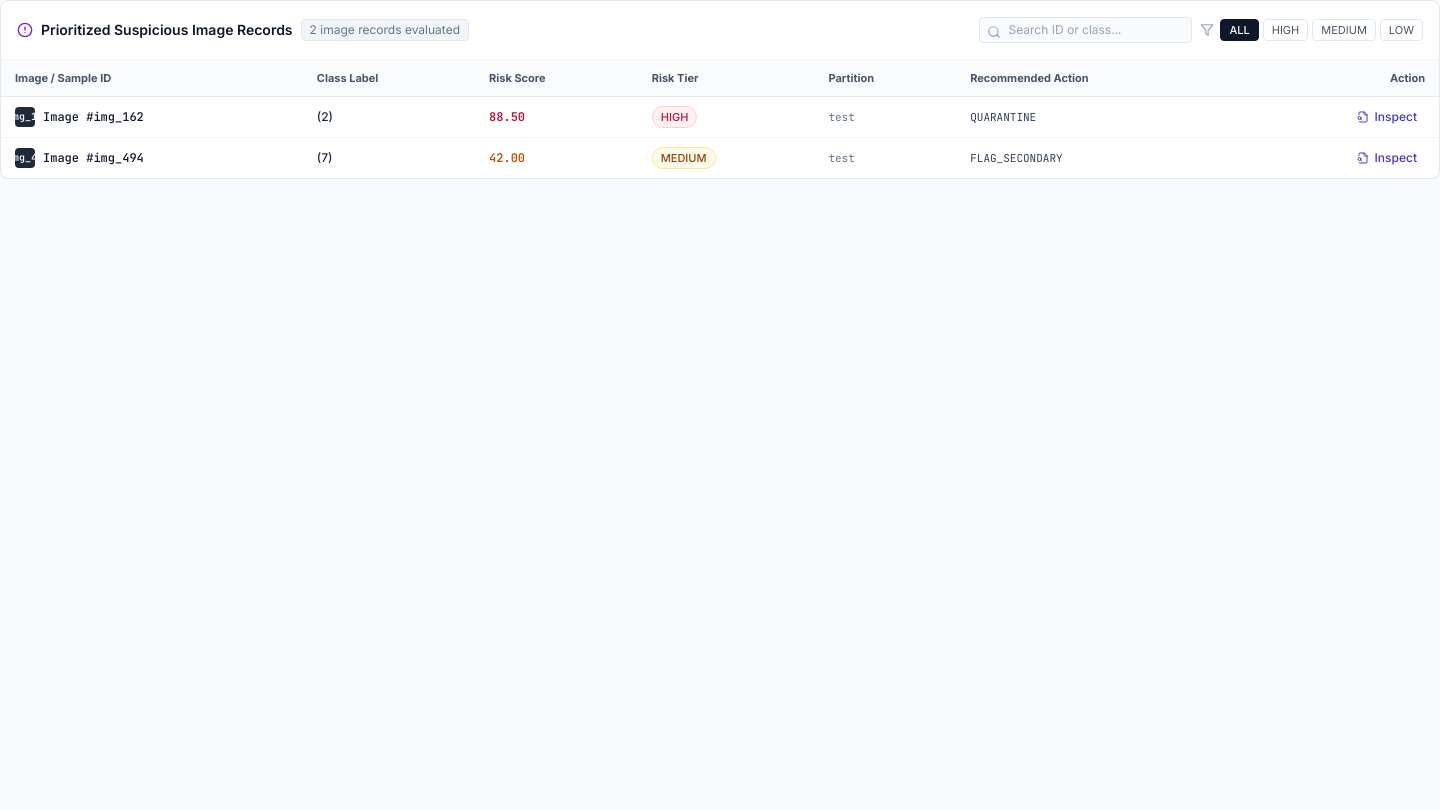
Scenario: SuspiciousImageExplorer Component › opens image sample detail drawer when Inspect is clicked
Click the button "Inspect" in the row of "(2)". click: (1387, 117)
box: [1349,105,1425,129]
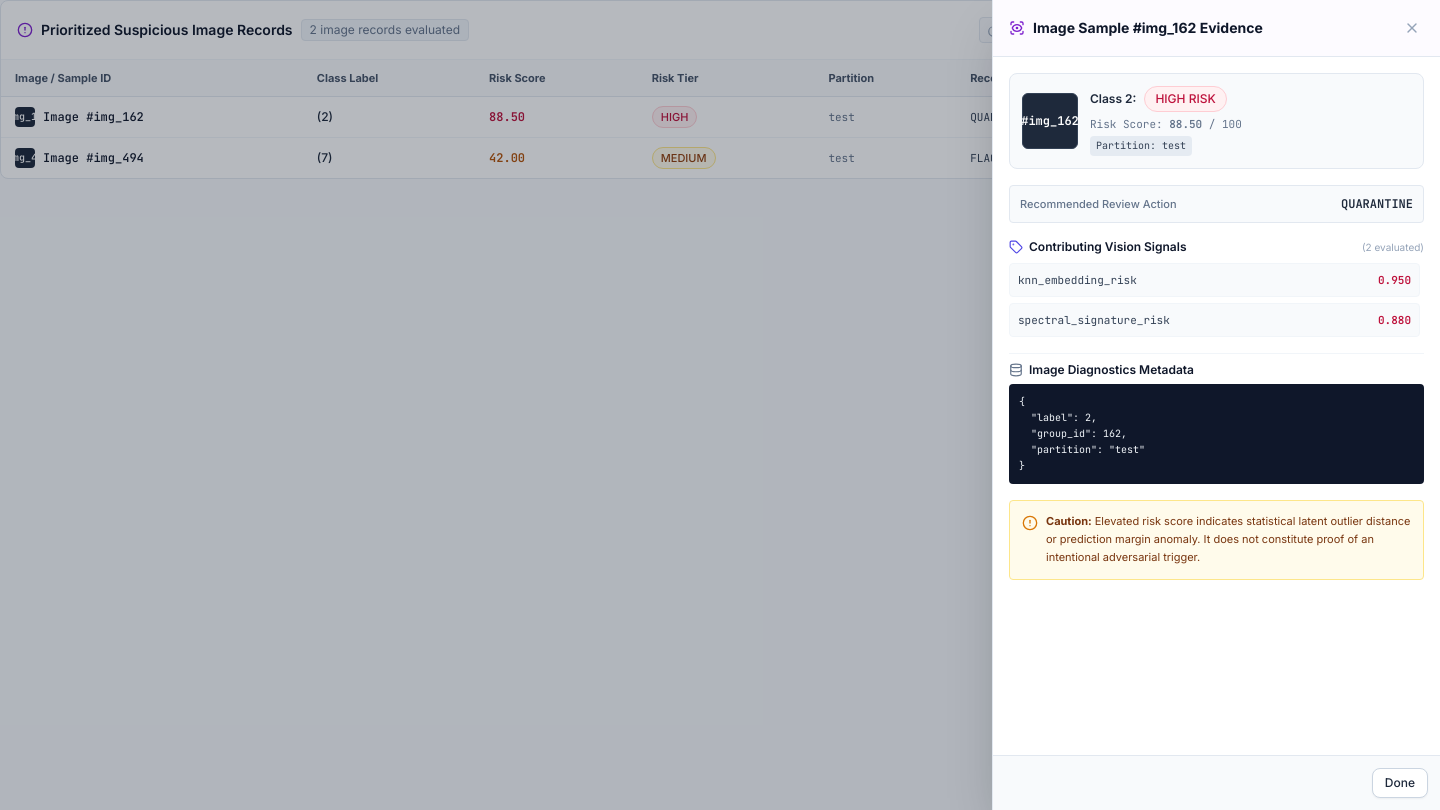
expect the heading "Image Sample #img_162 Evidence" is shown: met, box [1033,18,1263,38]
expect the text "knn_embedding_risk" is shown: met, box [1018,272,1137,288]
